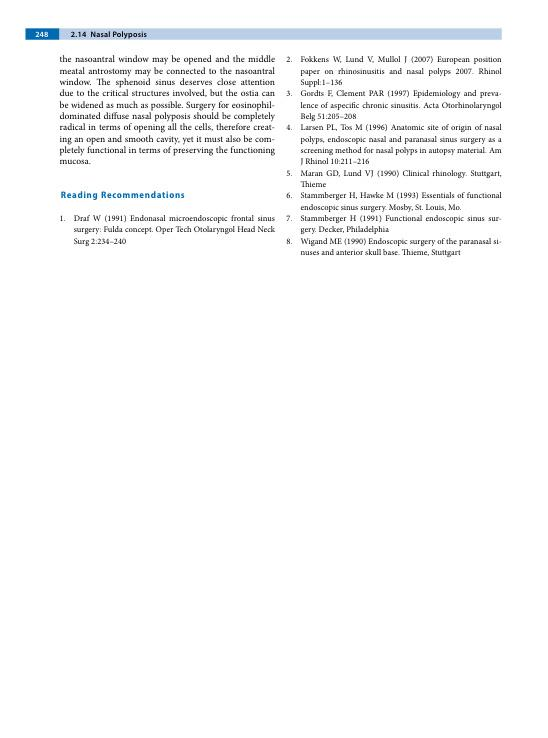header: (90, 30, 148, 40)
list: (283, 53, 503, 258), (58, 213, 276, 248)
sub-section-heading: (60, 190, 187, 202)
text: (57, 54, 276, 165)
